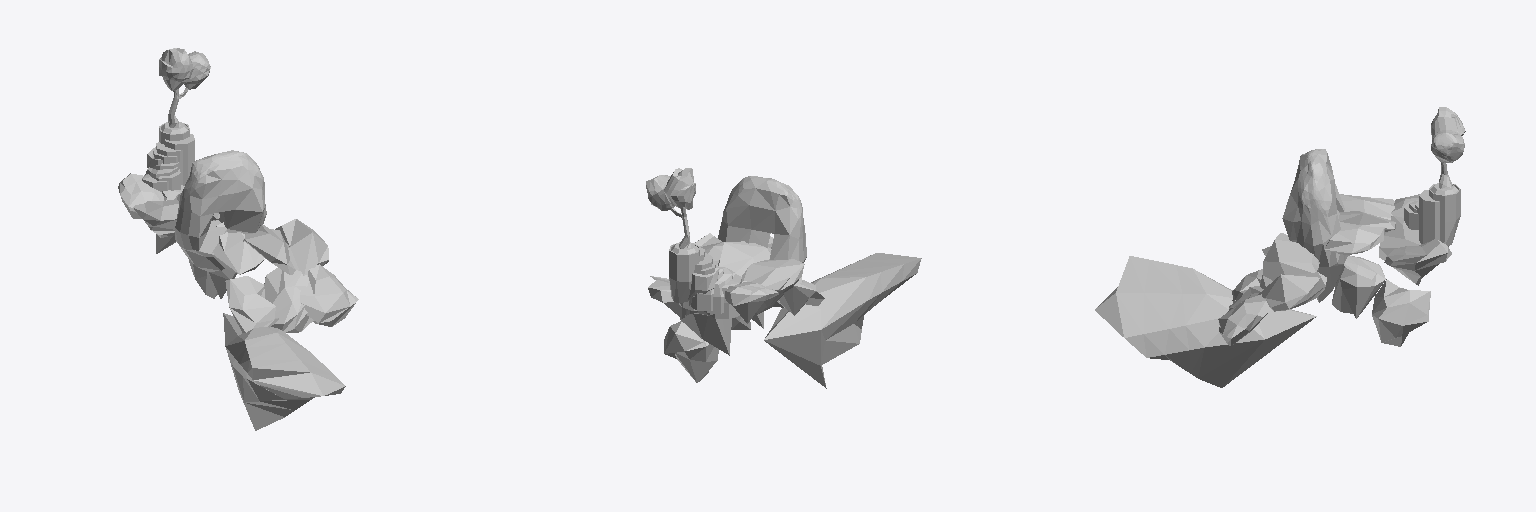
File: island_3.obj
3 renders of one model, left to right at view 1: azimuth 30°, elevation 25°; view 2: azimuth 150°, elevation 25°; view 3: azimuth 270°, elevation 25°, orthographic.
Visible parts, largest first — view 1: Group29061, Group9619, Group45017, Group27146; view 2: Group29061, Group45017, Group9619, Group27146; view 3: Group29061, Group27146, Group9619.
Part boxes in pixels (left/top/right/bottom): Group29061: left=118, top=128, right=358, bottom=430; Group9619: left=159, top=48, right=193, bottom=90; Group45017: left=142, top=161, right=181, bottom=191; Group27146: left=185, top=51, right=210, bottom=89; Group29061: left=648, top=176, right=921, bottom=388; Group45017: left=691, top=269, right=741, bottom=318; Group9619: left=664, top=168, right=695, bottom=209; Group27146: left=646, top=175, right=674, bottom=210; Group29061: left=1095, top=149, right=1460, bottom=387; Group27146: left=1431, top=130, right=1464, bottom=162; Group9619: left=1431, top=107, right=1465, bottom=139.
Size of the model in its own units: 28.05 by 50.11 by 57.43.